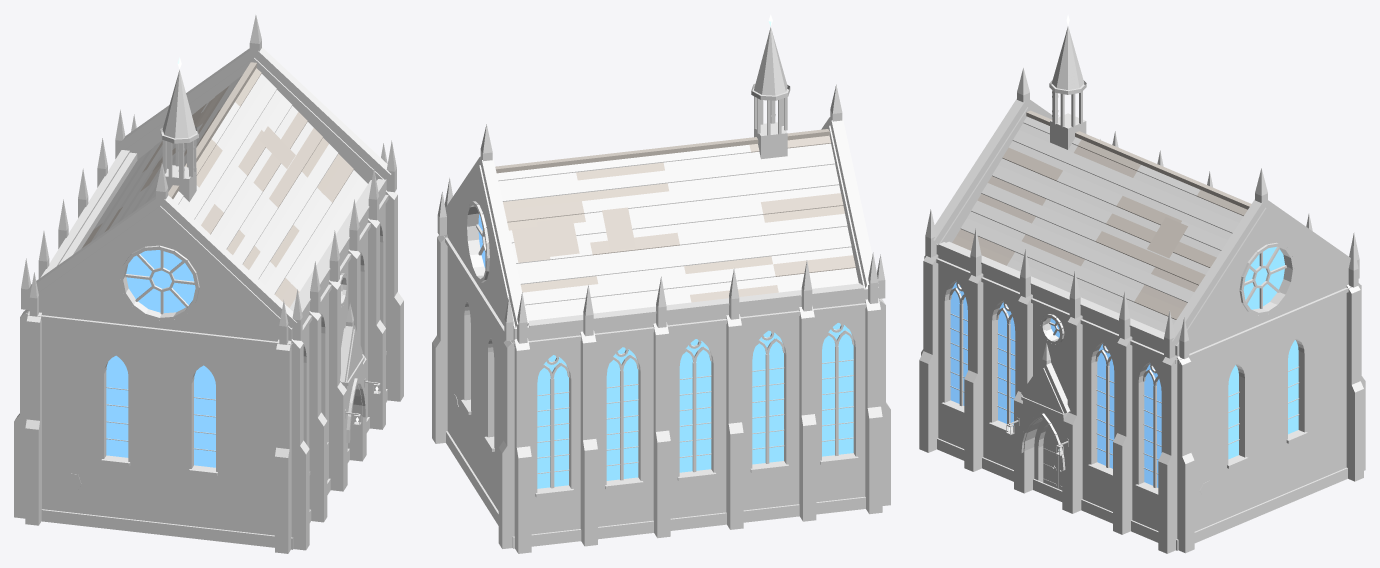
File: concordia_santuario.glb
3 renders of one model, left to right at view 1: azimuth 30°, elevation 25°; view 2: azimuth 150°, elevation 25°; view 3: azimuth 270°, elevation 25°, orthographic. The views are drawn at different scales.
Parts seen in each view (by area): view 1: SANTUARIO_Body, SANTUARIO_Roof; view 2: SANTUARIO_Body, SANTUARIO_Roof; view 3: SANTUARIO_Body, SANTUARIO_Roof.
Boxes of the visible parts, box(x1,y1,x2,y2) form: SANTUARIO_Body: box(14, 15, 403, 553); SANTUARIO_Roof: box(81, 57, 367, 307); SANTUARIO_Body: box(432, 84, 890, 553); SANTUARIO_Roof: box(495, 14, 858, 320); SANTUARIO_Body: box(919, 67, 1365, 553); SANTUARIO_Roof: box(952, 14, 1251, 332).
Size of what is drawn, in the model's own units: 19.09 by 21.15 by 19.09.
9 materials, 8 textured.
